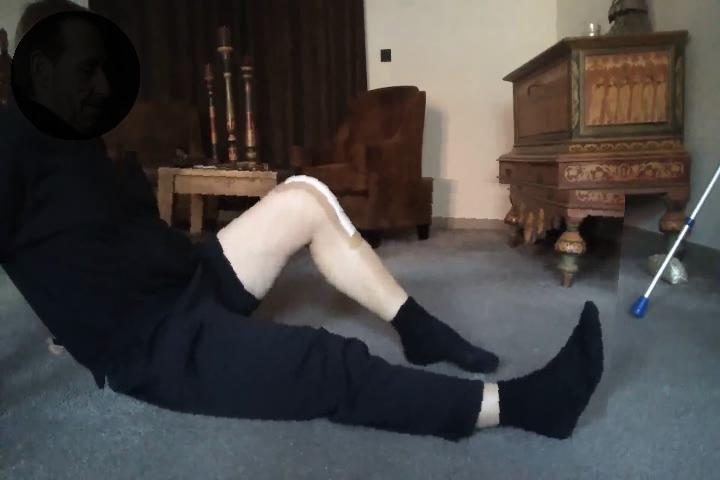lower_body: (108, 163, 621, 457)
